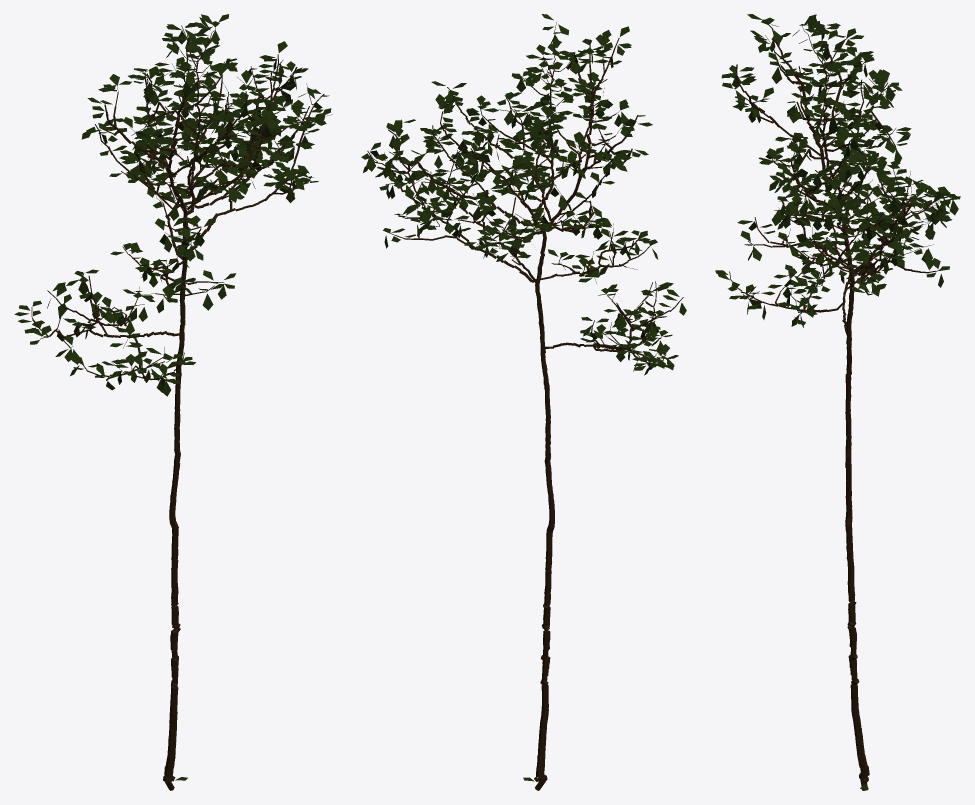
File: tree_438.obj
The picture shows the model from 3 angles, left to right: view 1: azimuth 30°, elevation 25°; view 2: azimuth 150°, elevation 25°; view 3: azimuth 270°, elevation 25°; orthographic projection. The views are drawn at different scales.
Parts seen in each view (by area): view 1: Leaves, TrunkAndBranches; view 2: Leaves, TrunkAndBranches; view 3: Leaves, TrunkAndBranches.
Boxes of the visible parts, x1,y1,x2,y2 form: Leaves: (14, 14, 331, 780); TrunkAndBranches: (31, 24, 332, 790); Leaves: (361, 14, 686, 781); TrunkAndBranches: (367, 22, 683, 790); Leaves: (715, 14, 960, 790); TrunkAndBranches: (729, 20, 950, 790).
Size of the model in its own units: 6.02 by 14.69 by 4.19.
